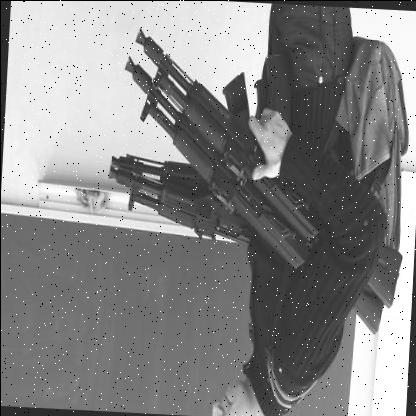rifle: (123, 30, 414, 304), (101, 123, 395, 340)
